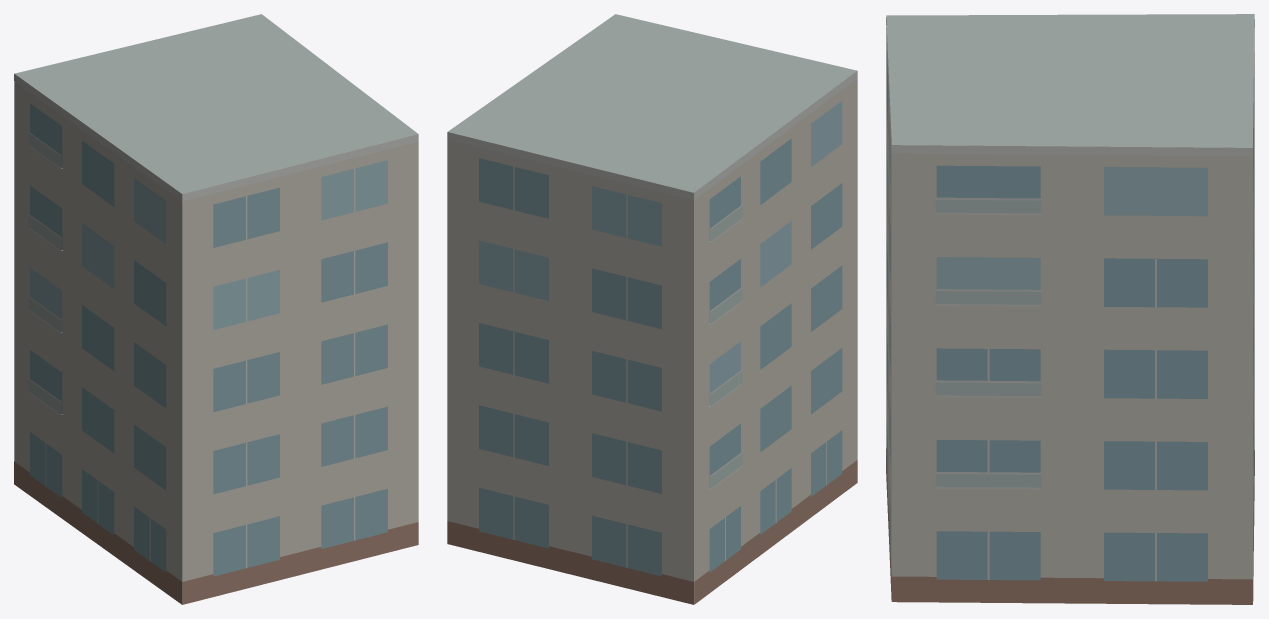
Rendered from survey-upis-32980812.glb.
The picture shows the model from 3 angles, left to right: view 1: azimuth 30°, elevation 25°; view 2: azimuth 150°, elevation 25°; view 3: azimuth 270°, elevation 25°; orthographic projection. The views are drawn at different scales.
Visible parts, largest first — view 1: survey-upis-32980812.tmp; view 2: survey-upis-32980812.tmp; view 3: survey-upis-32980812.tmp.
Boxes of the visible parts, x1,y1,x2,y2 form: survey-upis-32980812.tmp: [14, 14, 418, 604]; survey-upis-32980812.tmp: [447, 14, 857, 604]; survey-upis-32980812.tmp: [886, 14, 1254, 604].
Size of the model in its own units: 8.46 by 13.4 by 9.8.
